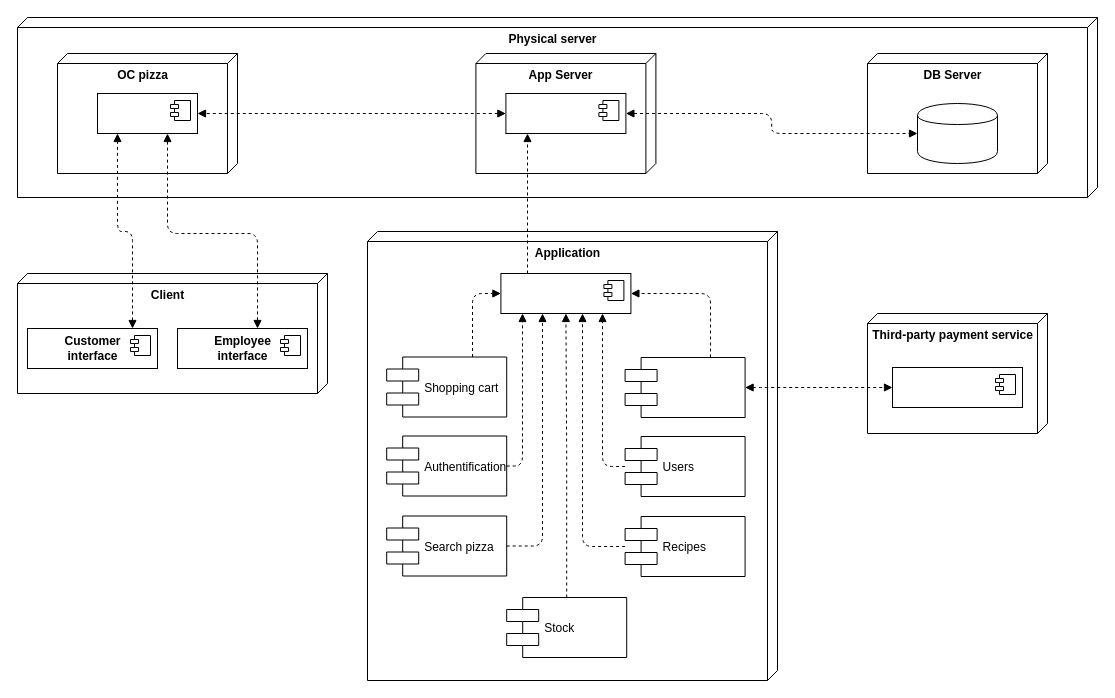
This 1115x698 diagram has some shape labels left out. Here are the shapes that lost their labels. From the top down, the centre of each, then its label:
At (x=147, y=113): "Nginx".
At (x=565, y=113): "Gunicorn".
At (x=957, y=133): "OCPizzaDB".
At (x=565, y=293): "Django".
At (x=684, y=387): "Orders".
At (x=957, y=387): "Payment API".
